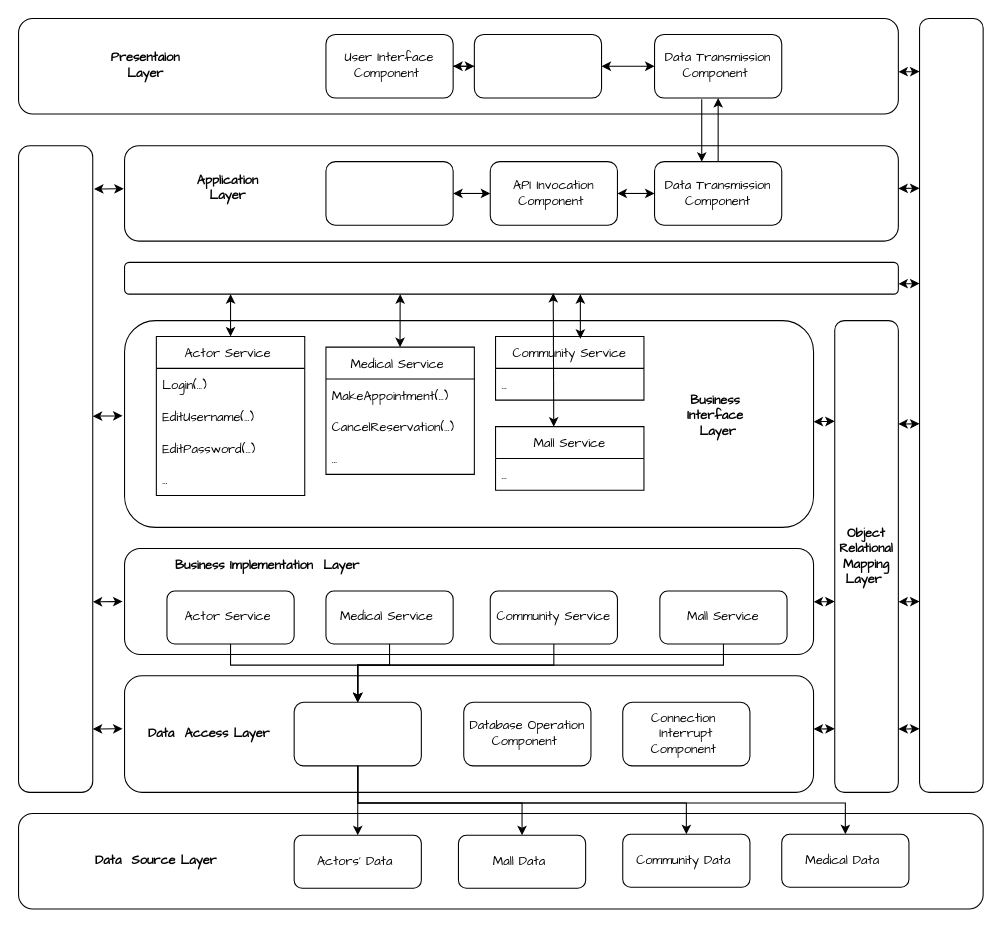
Image size: 1002x927. Some labels were removed from this diagram. Each missing label, with the centre of its shape:
"Common Service Library" belongs at (x=950, y=404).
"Data Pack /Unpack Component" belongs at (x=537, y=65).
"Database Connection Implementation" belongs at (x=357, y=733).
"Gateway" belongs at (x=510, y=277).
"Message Queue" belongs at (x=55, y=468).
"Multi-Platform Component" belongs at (x=389, y=193).
